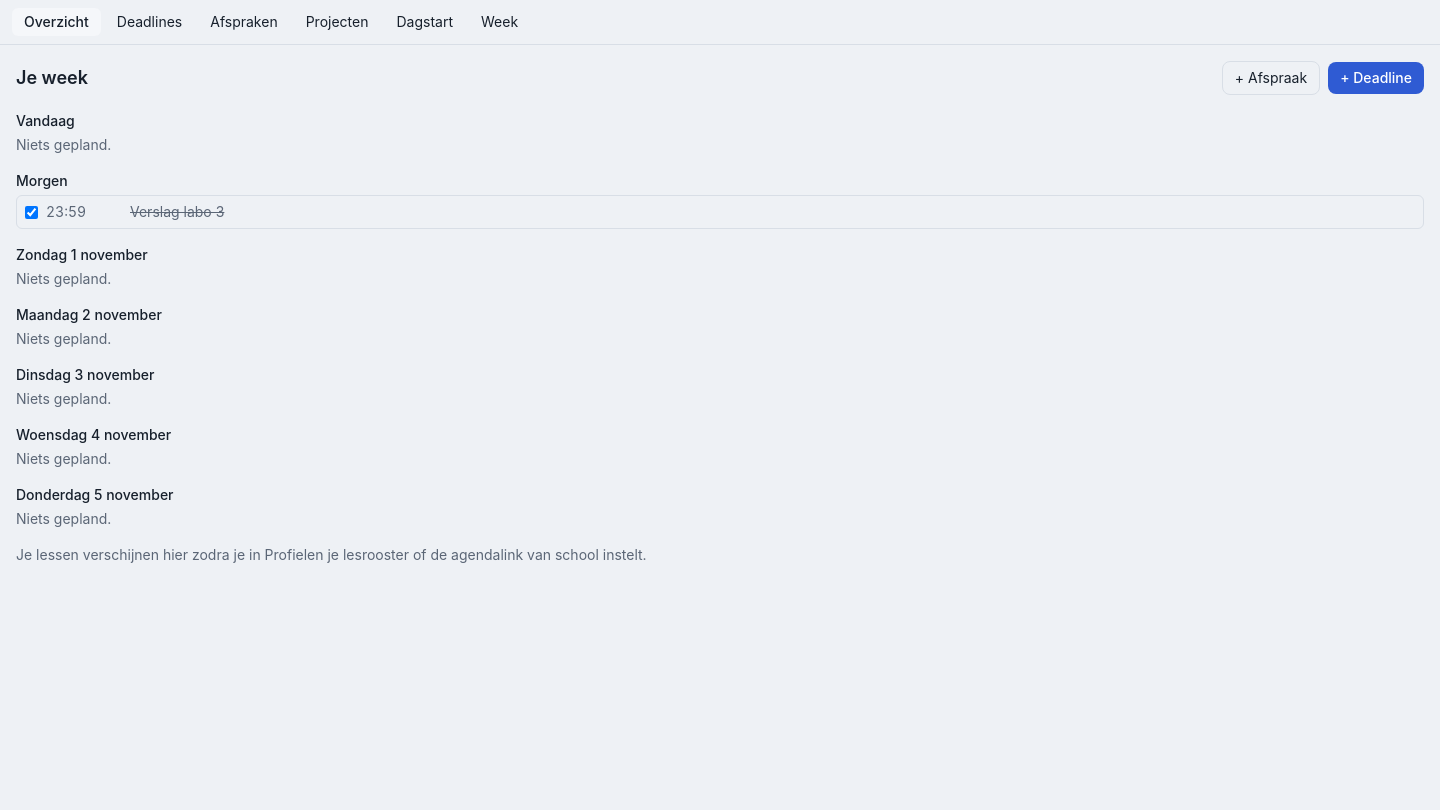
Test case: Agenda › adds an appointment with a place and shows it in the week
The image size is (1440, 810).
Click the button "+ Afspraak": coordinates (1271, 78) [1222,61,1320,95]
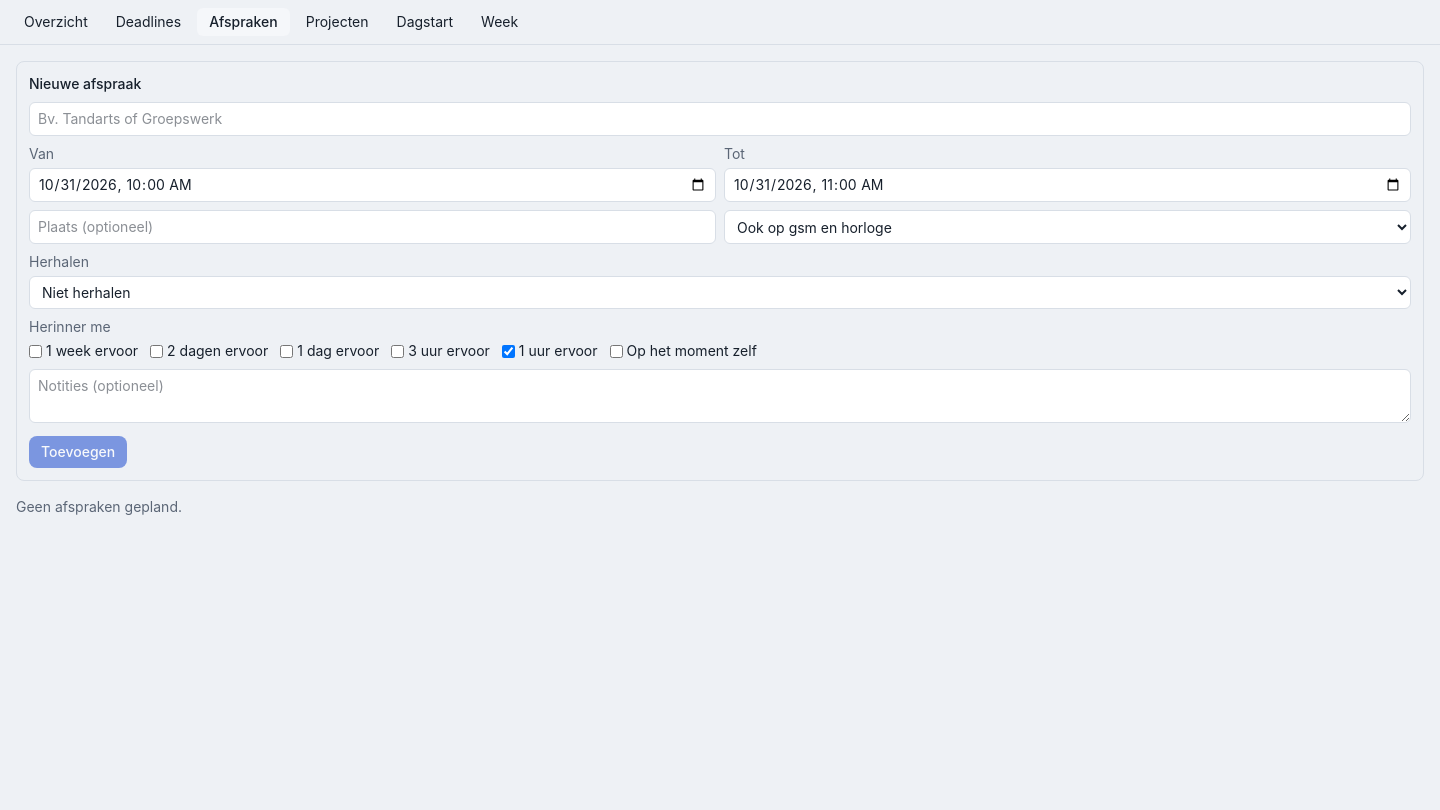
In the field named "Titel": coordinates (720, 119) [29,102,1411,136], type "Tandarts"
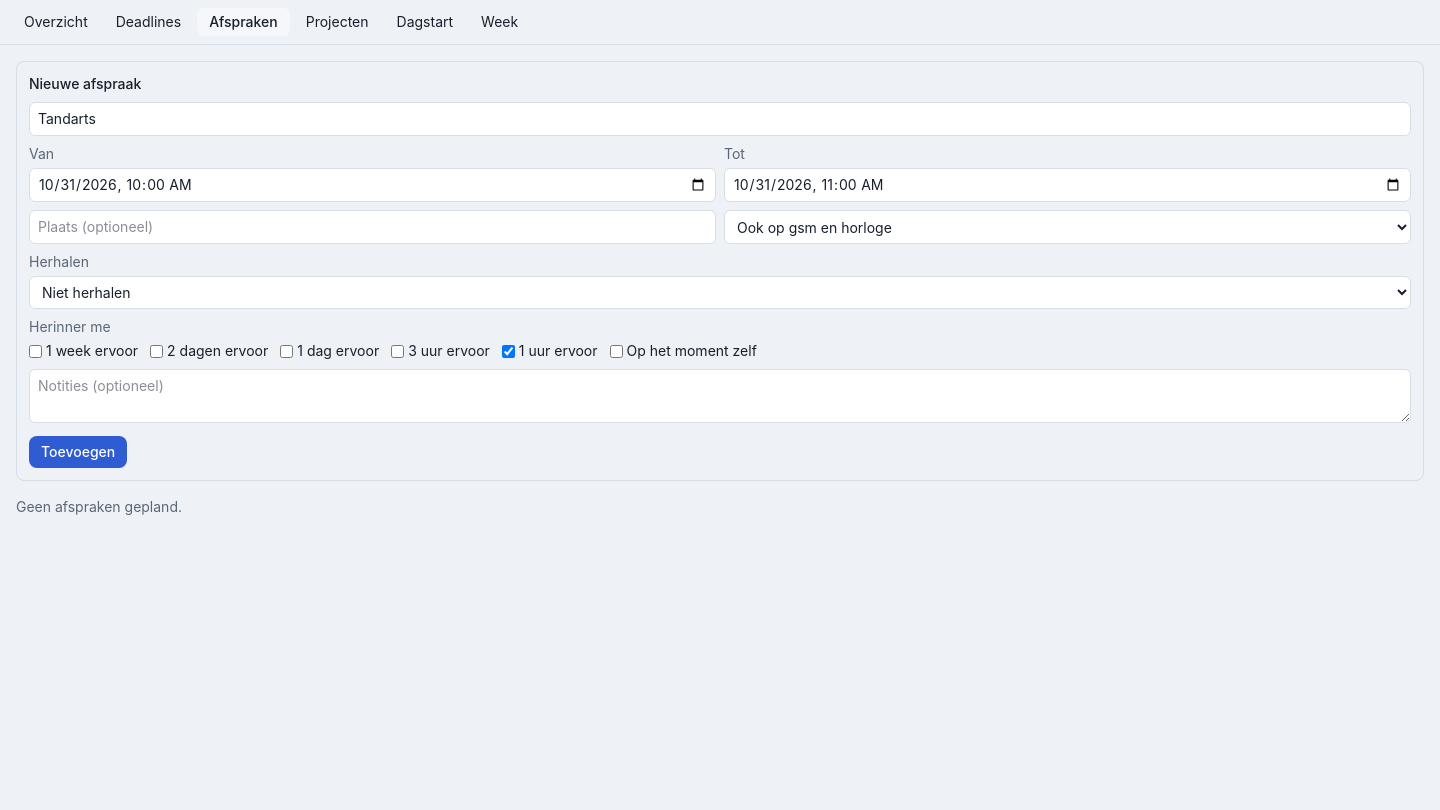
In the field labelled "Plaats": coordinates (372, 227) [29,210,716,244], type "Antwerpen"
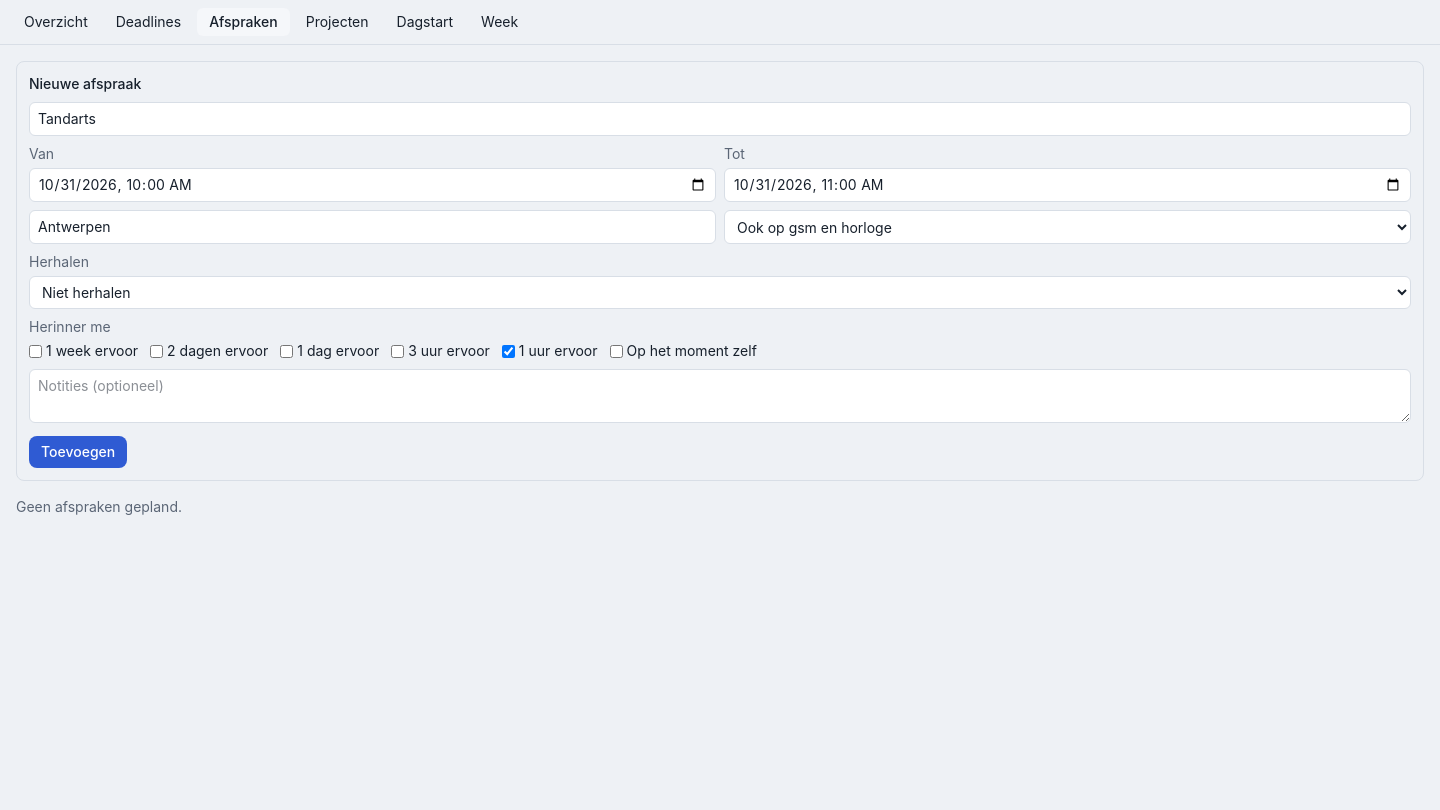
Click the button "Toevoegen": coordinates (78, 452) [29,436,127,468]
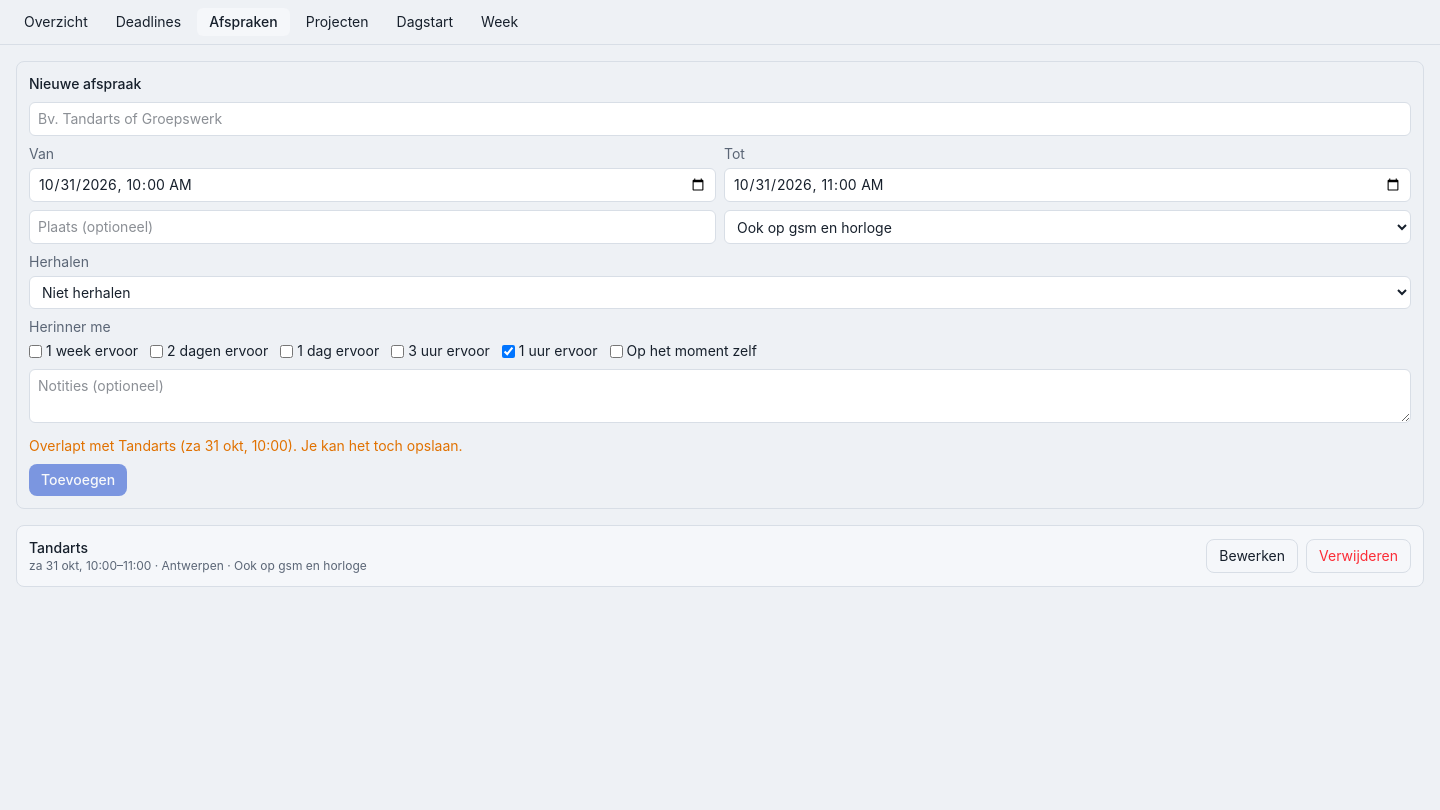
expect the text "Tandarts" is shown: met, box [29,539,88,556]
Click the tab "Overzicht": coordinates (56, 22) [12,8,100,36]
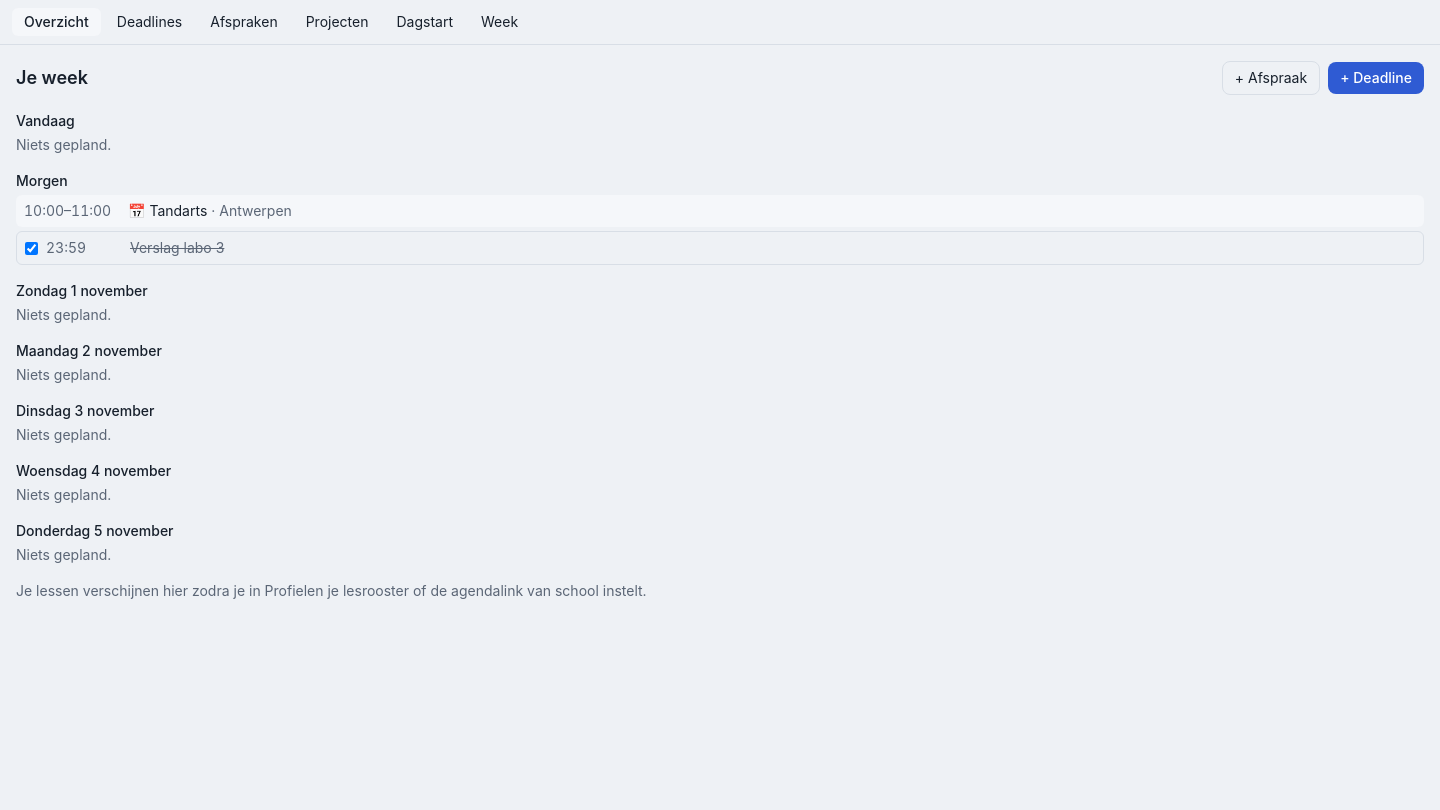
expect the text "📅 Tandarts · Antwerpen" is shown: met, box [128,202,292,219]
